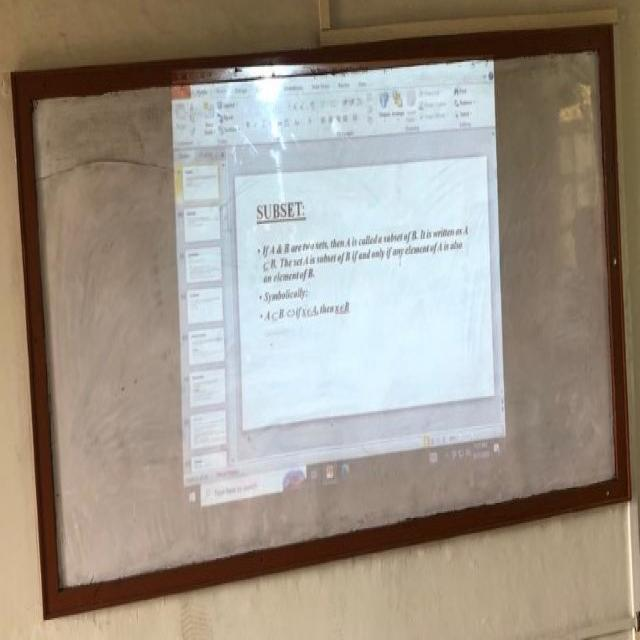Slide: (171, 57, 508, 520)
White-board: (19, 29, 627, 605)
